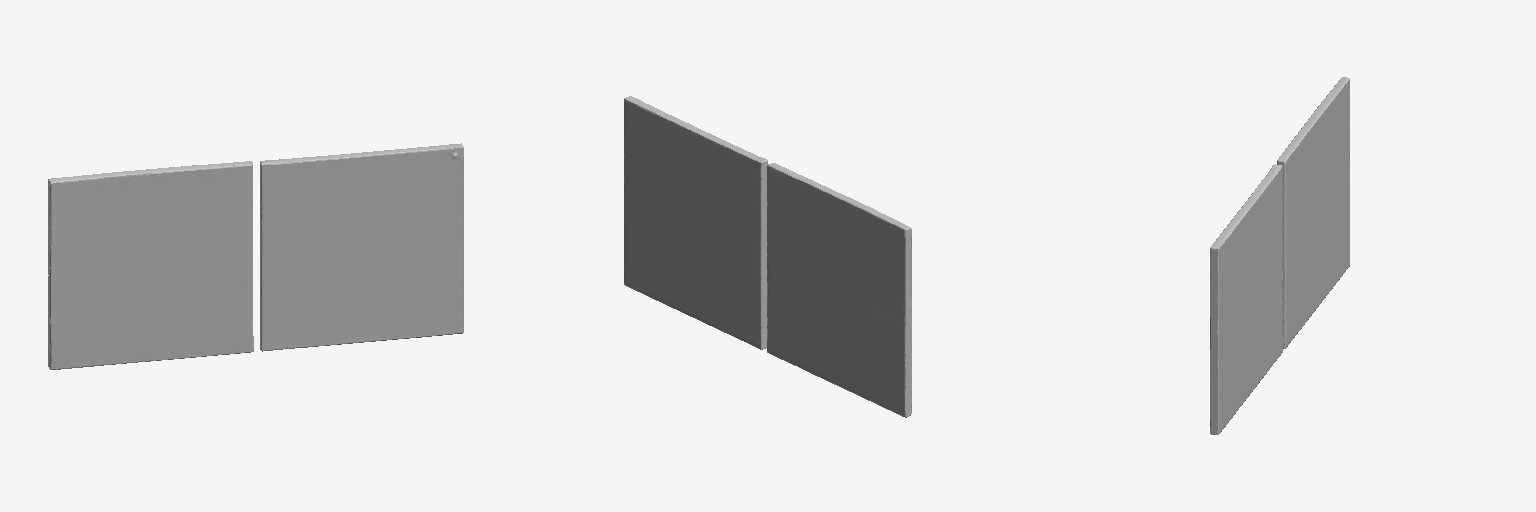
File: cuadronuevo8.obj
3 views of the same model, side by side, from view 1: azimuth 30°, elevation 25°; view 2: azimuth 150°, elevation 25°; view 3: azimuth 270°, elevation 25° (orthographic).
Parts seen in each view (by area): view 1: cuadronuevo8; view 2: cuadronuevo8; view 3: cuadronuevo8.
Boxes of the visible parts, x1,y1,x2,y2 form: cuadronuevo8: [48, 143, 463, 369]; cuadronuevo8: [624, 96, 911, 417]; cuadronuevo8: [1210, 77, 1349, 434].
Size of the model in its own units: 19.8 by 10.24 by 6.87.